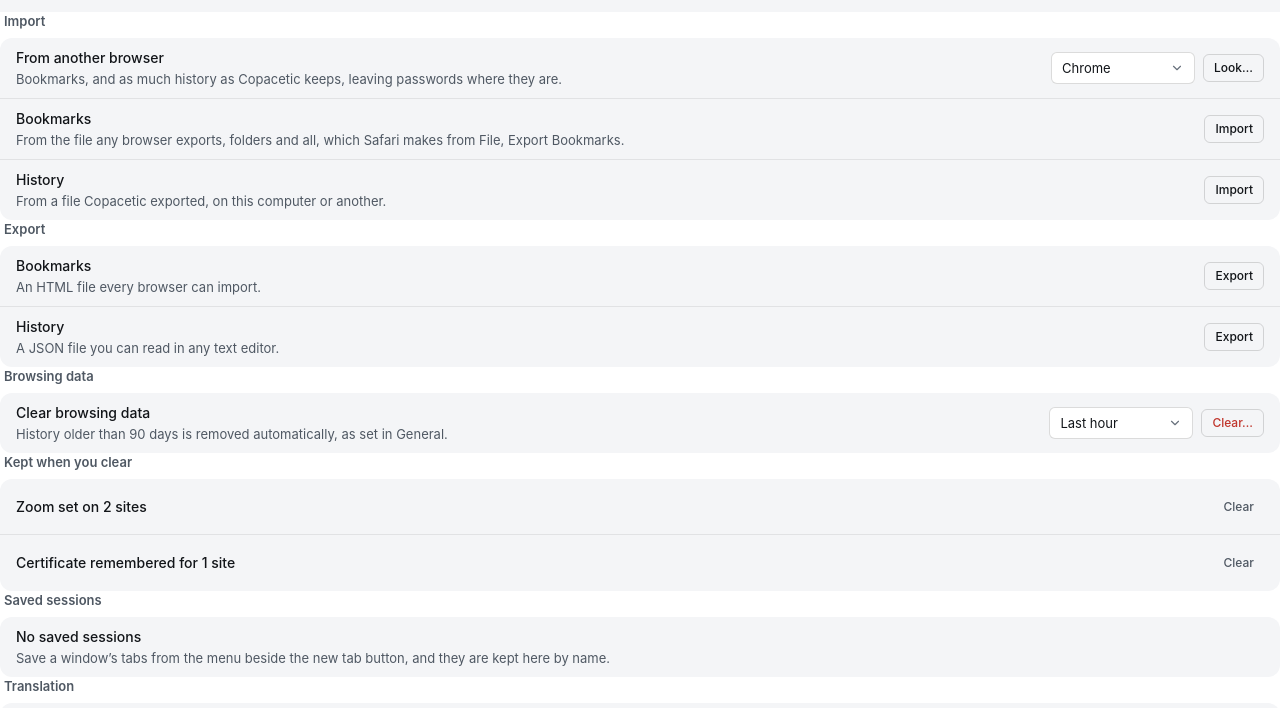
Test: importing from another browser › shows what it found before bringing anything in
Step 1. Click the button "Look…" → {"x": 1234, "y": 68}, box x1=1203 y1=54 x2=1264 y2=82
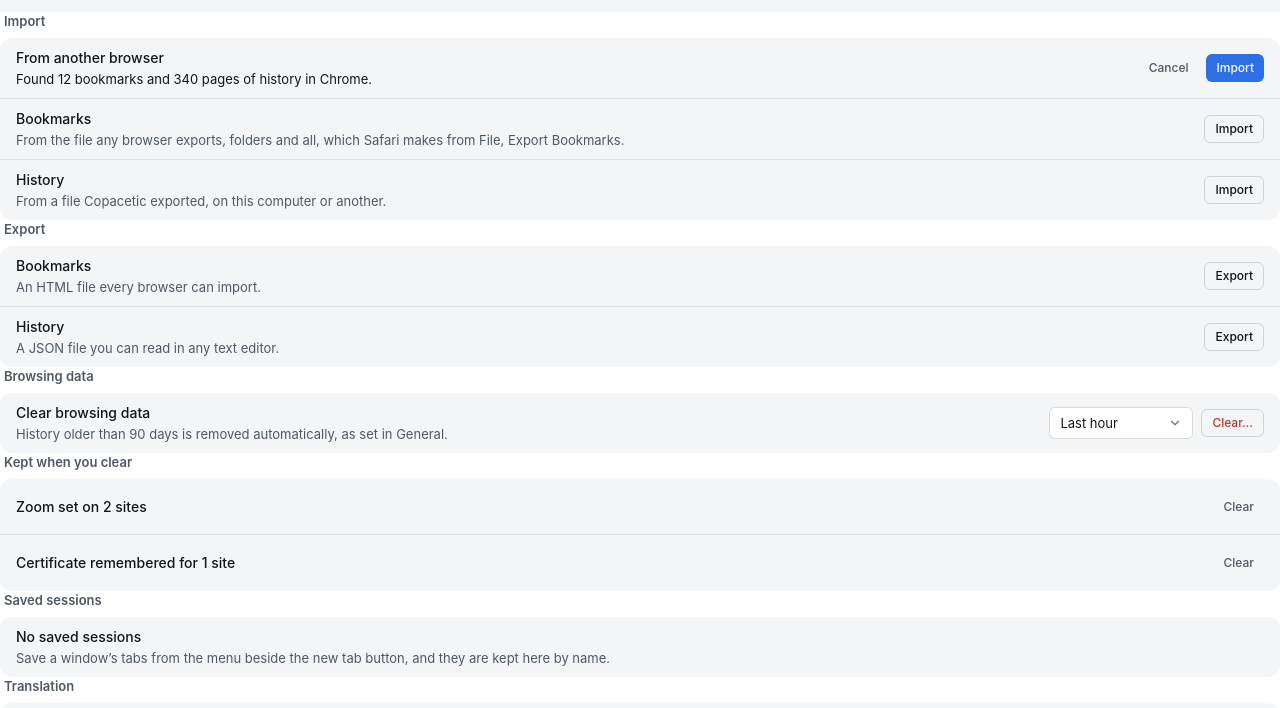
Result: the text "Found 12 bookmarks and 340 pages of history in Chrome." is shown at x1=16 y1=71 x2=372 y2=87
Note: The browser's own row comes first in the group, before the two file imports.
Step 2. Click the button "Import" in the row of "From another browser" → {"x": 1235, "y": 68}, box x1=1206 y1=54 x2=1264 y2=82
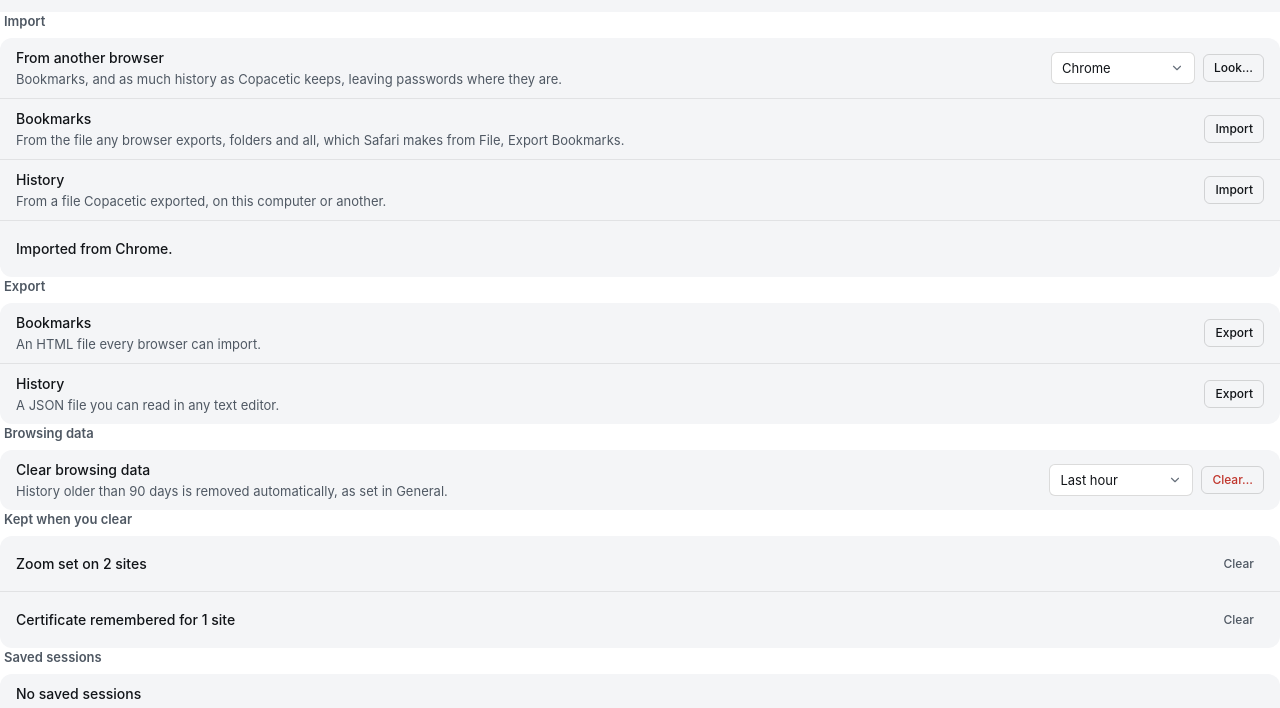
Result: the text "Imported from Chrome." is shown at x1=16 y1=239 x2=172 y2=259
